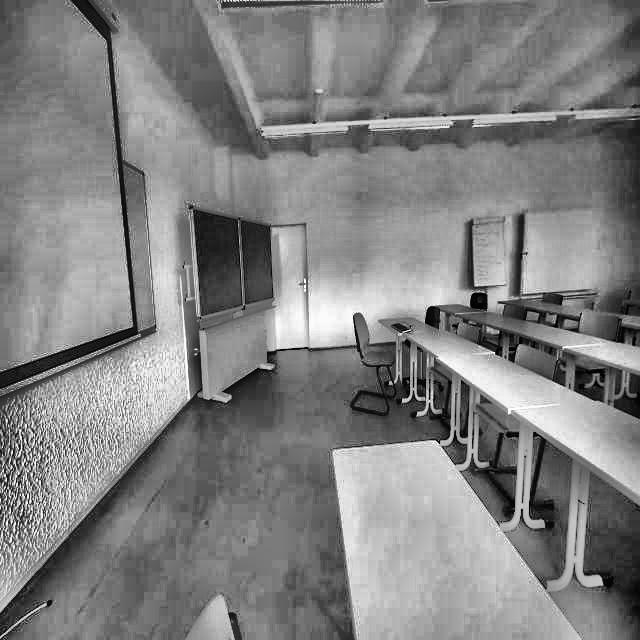ff: (188, 137, 457, 307)
